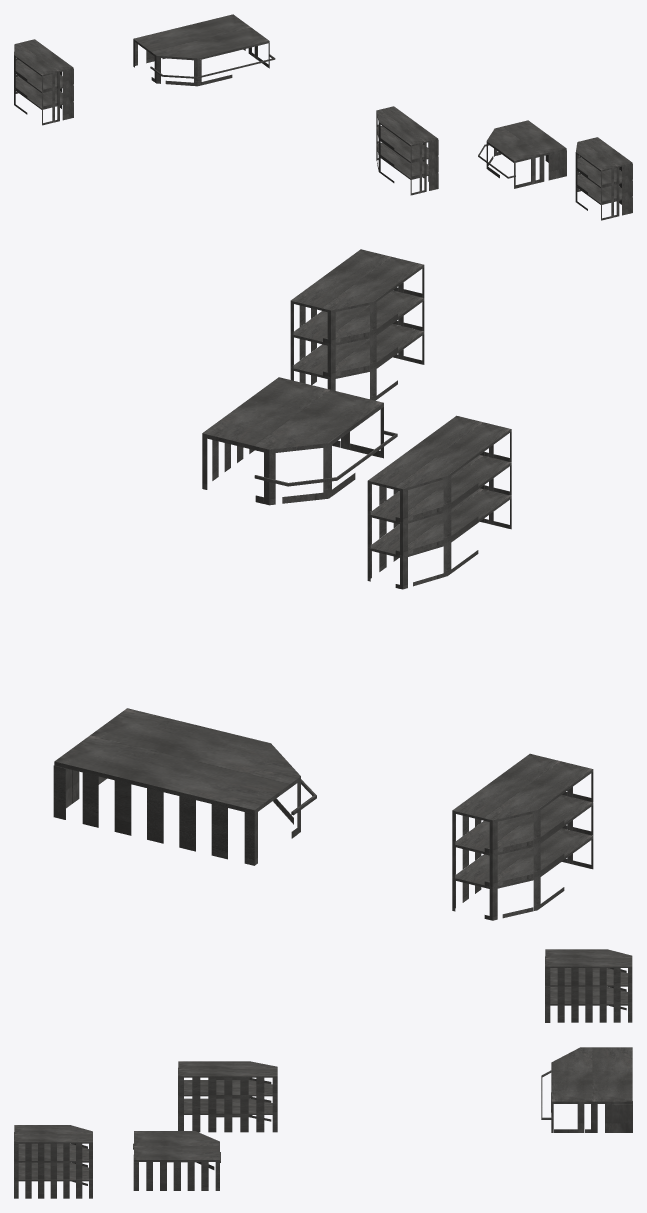
The model's file is Big_restaurant01_Wall02.fbx.
3 views of the same model, one above another, from view 1: azimuth 30°, elevation 25°; view 2: azimuth 150°, elevation 25°; view 3: azimuth 270°, elevation 25° (orthographic). The views are drawn at different scales.
Parts seen in each view (by area): view 1: Big_restaurant01_Wall02; view 2: Big_restaurant01_Wall02; view 3: Big_restaurant01_Wall02.
Part boxes in pixels (box(x1,y1,x2,y2)): Big_restaurant01_Wall02: box(14, 14, 632, 220); Big_restaurant01_Wall02: box(53, 249, 593, 920); Big_restaurant01_Wall02: box(14, 949, 632, 1198).
Size of the model in its own units: 10377 by 1446 by 14054.
1 material, 1 textured.
